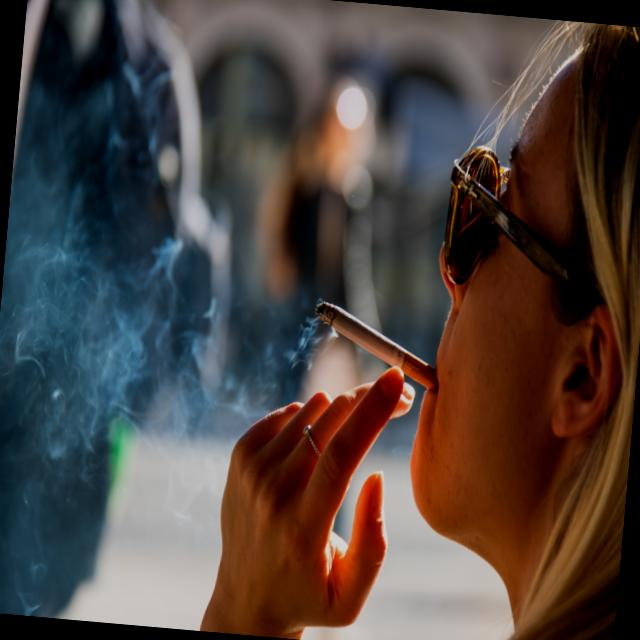cigarette: (308, 296, 446, 394)
